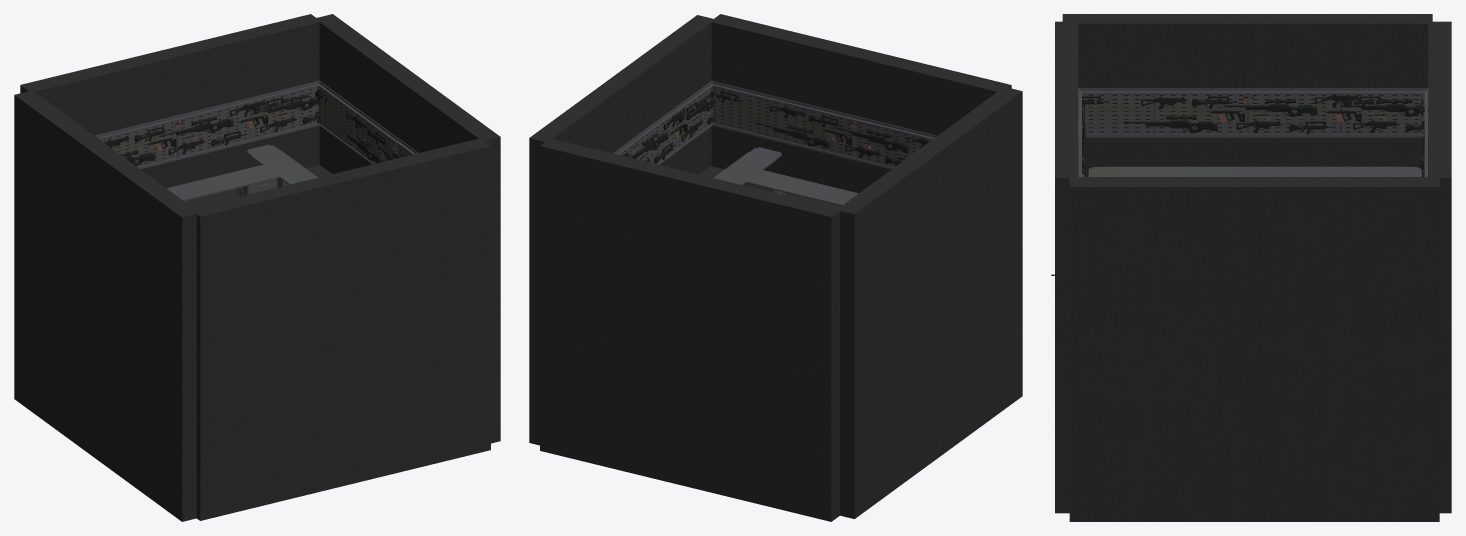
Rendered from nwarmory.glb.
The picture shows the model from 3 angles, left to right: view 1: azimuth 30°, elevation 25°; view 2: azimuth 150°, elevation 25°; view 3: azimuth 270°, elevation 25°; orthographic projection. The views are drawn at different scales.
Visible parts, largest first — view 1: Center__4_, Center__3_, Center__1_, Center__2_, prop_4__2_, prop_4__3_, prop_4__1_, prop_3, prop_4_2, prop_3_3, prop_4__1__2, Center; view 2: Center__1_, Center__3_, Center__4_, Center__2_, prop_4_1, prop_4__1__1, prop_4__2__1, prop_3_1, prop_3_3, prop_4__2__2, prop_4__3__2; view 3: Center__2_, Center__3_, Center__4_, Center__1_, prop_3_2, prop_4__2__3, prop_4__1__3, prop_4_3, prop_4__3__3, awp_main__1__3, awp_main_3, awp_main__2__3.
Part boxes in pixels (left/top/right/bottom): Center__4_: left=190, top=138, right=490, bottom=520; Center__3_: left=14, top=90, right=197, bottom=521; Center__1_: left=20, top=14, right=319, bottom=188; Center__2_: left=315, top=14, right=500, bottom=443; prop_4__2_: left=176, top=98, right=251, bottom=160; prop_4__3_: left=250, top=81, right=319, bottom=142; prop_4__1_: left=103, top=115, right=177, bottom=169; prop_3: left=167, top=163, right=286, bottom=201; prop_4_2: left=318, top=80, right=355, bottom=151; prop_3_3: left=246, top=144, right=317, bottom=184; prop_4__1__2: left=353, top=107, right=398, bottom=164; Center: left=184, top=165, right=332, bottom=207; Center__1_: left=540, top=138, right=841, bottom=521; Center__3_: left=837, top=87, right=1022, bottom=518; Center__4_: left=710, top=14, right=1011, bottom=193; Center__2_: left=529, top=15, right=712, bottom=445; prop_4_1: left=712, top=81, right=781, bottom=142; prop_4__1__1: left=780, top=98, right=855, bottom=160; prop_4__2__1: left=854, top=116, right=928, bottom=169; prop_3_1: left=738, top=168, right=858, bottom=206; prop_3_3: left=713, top=147, right=781, bottom=184; prop_4__2__2: left=632, top=108, right=677, bottom=164; prop_4__3__2: left=674, top=80, right=712, bottom=150; Center__2_: left=1069, top=177, right=1439, bottom=521; Center__3_: left=1062, top=14, right=1432, bottom=176; Center__4_: left=1055, top=21, right=1077, bottom=513; Center__1_: left=1428, top=21, right=1451, bottom=513; prop_3_2: left=1088, top=166, right=1421, bottom=176; prop_4__2__3: left=1248, top=88, right=1341, bottom=137; prop_4__1__3: left=1154, top=88, right=1247, bottom=137; prop_4_3: left=1078, top=88, right=1154, bottom=137; prop_4__3__3: left=1341, top=88, right=1428, bottom=137; awp_main__1__3: left=1123, top=120, right=1217, bottom=133; awp_main_3: left=1223, top=104, right=1317, bottom=116; awp_main__2__3: left=1340, top=104, right=1428, bottom=116.
Bounding box in the file's own units: 885 × 800 × 866.
18 materials, 16 textured.
